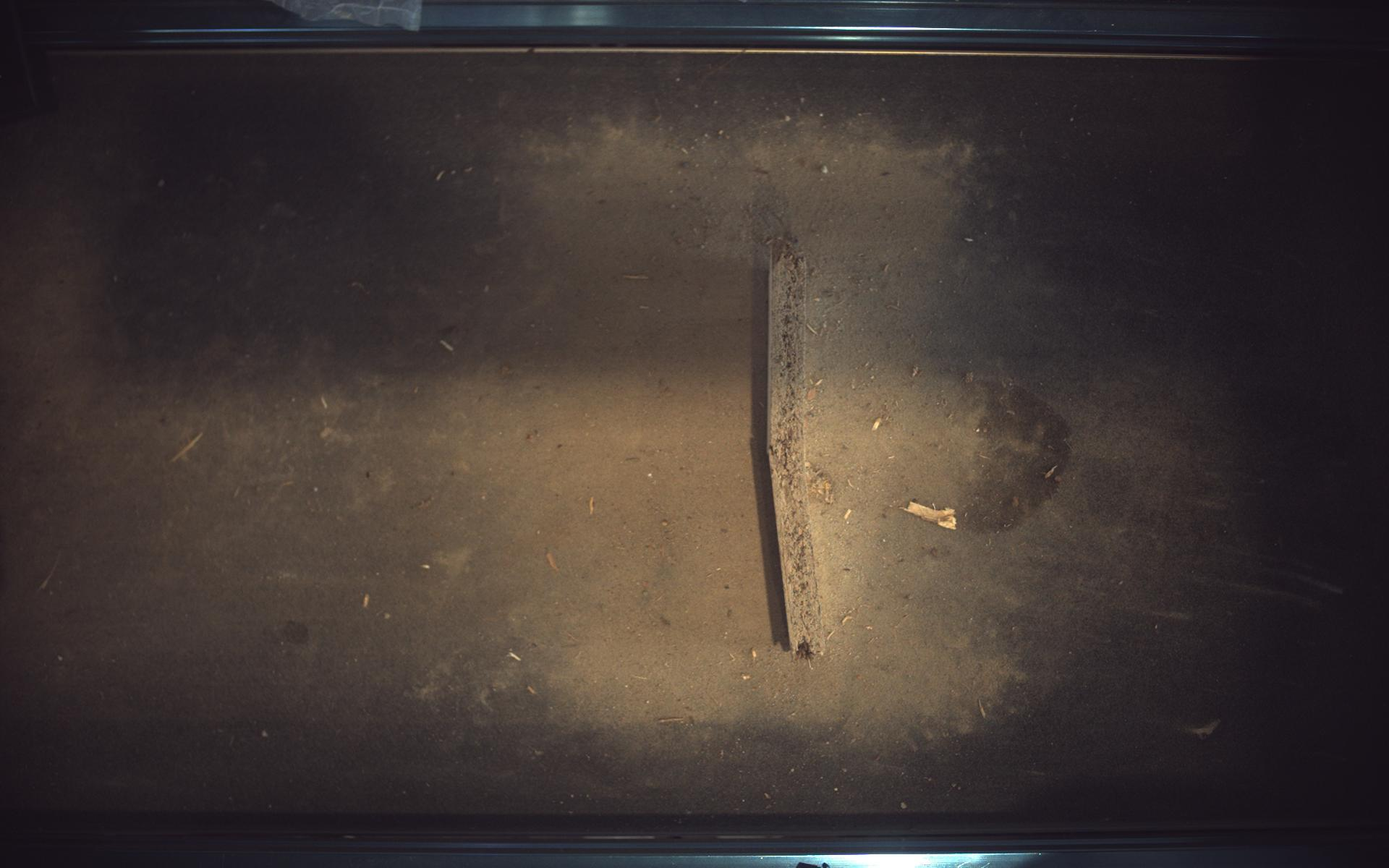wood: (768, 238, 825, 656)
